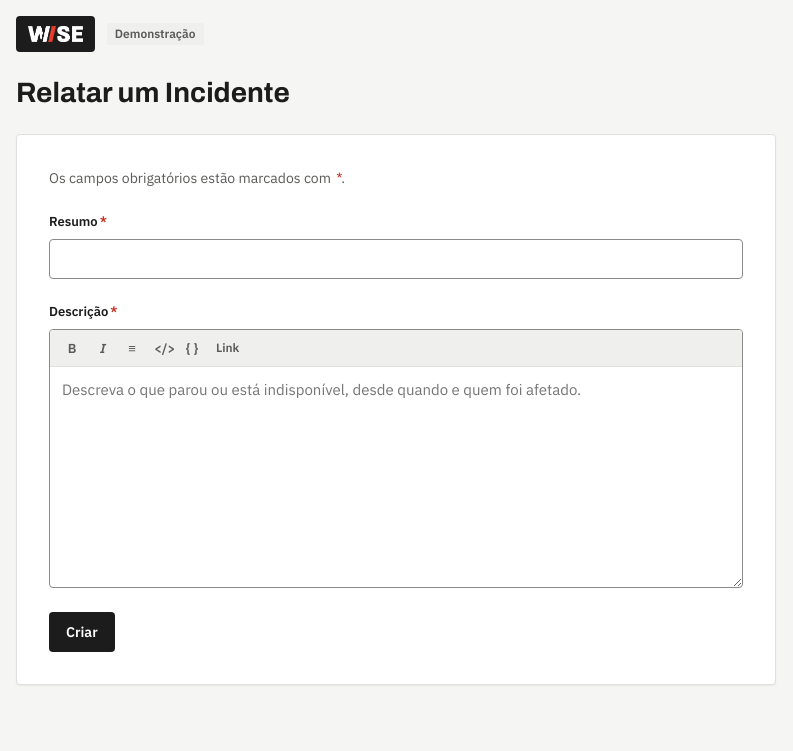
Scenario: Incidente › mostra os erros, foca o primeiro campo inválido e só envia depois de preenchido
Click the button "Criar" at (82,632), box top-left (49, 612), bottom-right (115, 652)
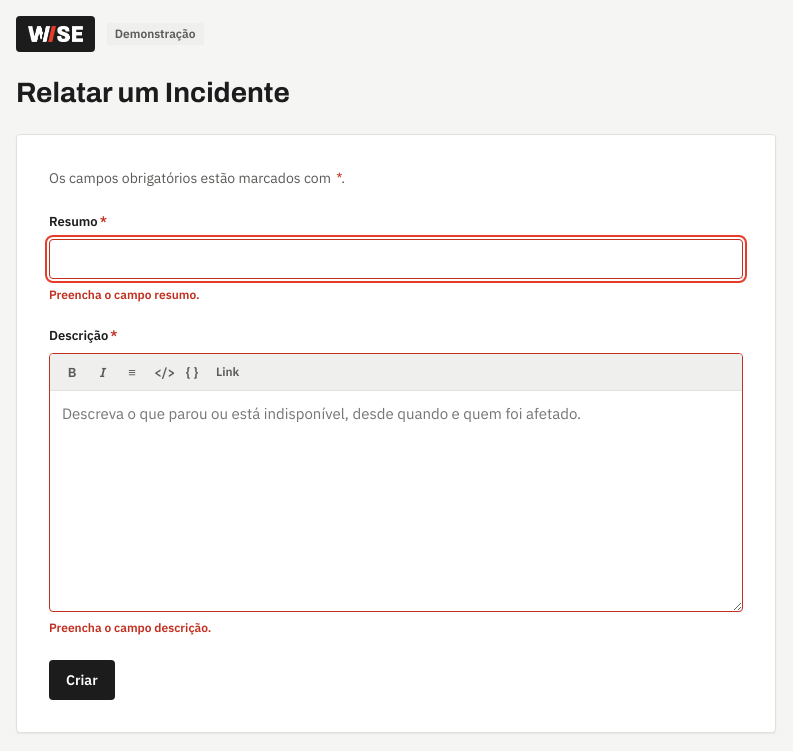
Expected: the text "Preencha o campo resumo." is shown, top-left (49, 287), bottom-right (200, 302)
Expected: the text "Preencha o campo descrição." is shown, top-left (49, 620), bottom-right (211, 635)
Type "Sistema fora do ar" into the field labelled "Resumo*" at (396,259), box top-left (49, 239), bottom-right (743, 279)
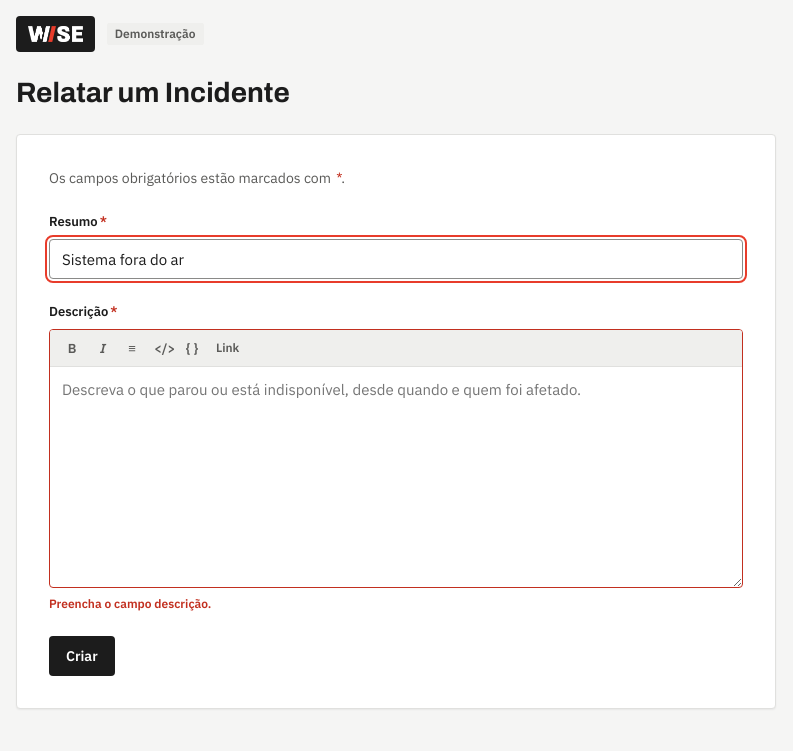
Expected: the text "Preencha o campo resumo." is gone
Type "Desde as 9h" into the text box labelled "Descrição*" at (396,477), box top-left (50, 367), bottom-right (742, 587)
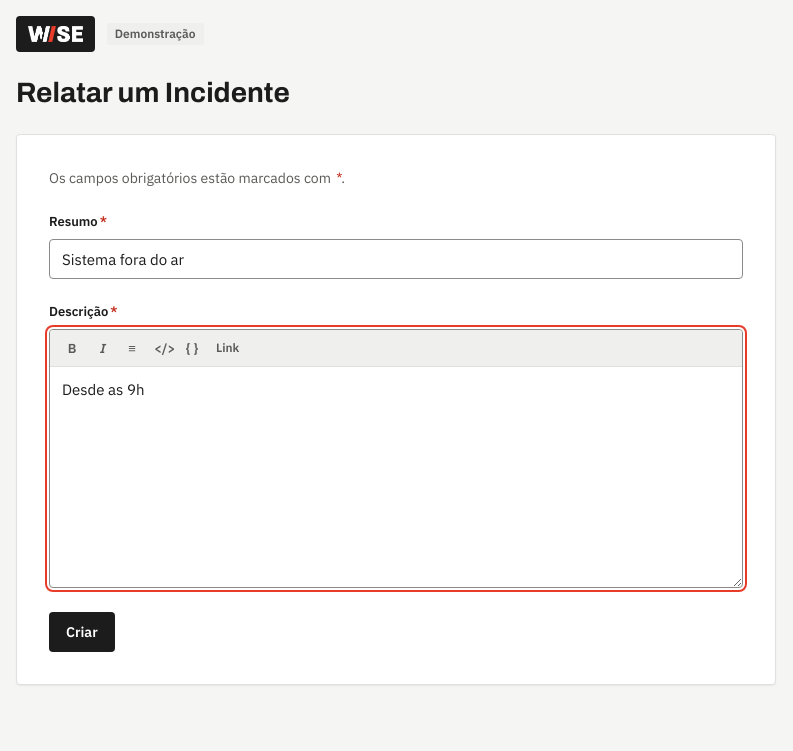
Click the button "Criar" at (82,632), box top-left (49, 612), bottom-right (115, 652)
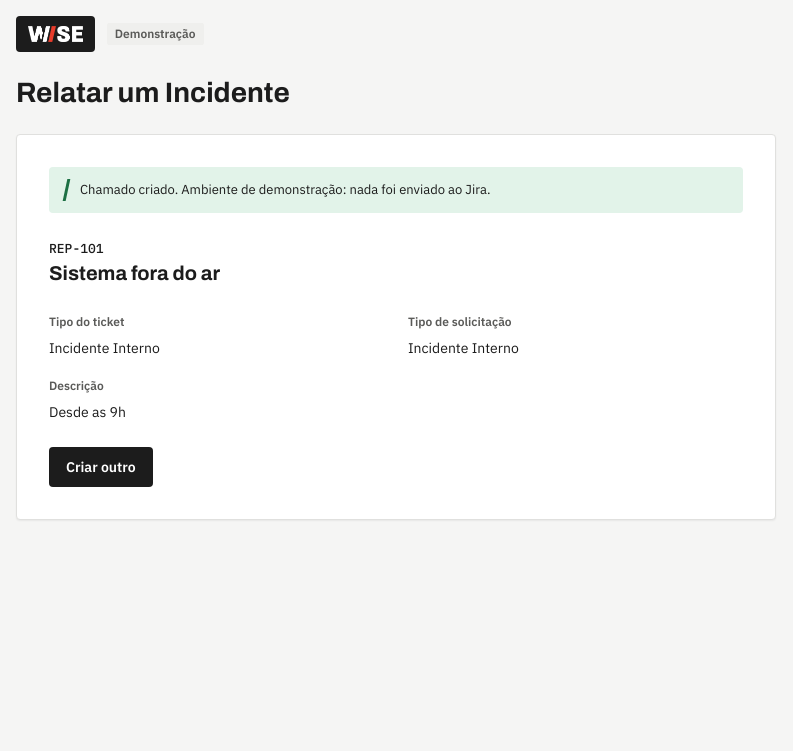
Expected: the text "REP-101" is shown, top-left (49, 240), bottom-right (104, 257)
Expected: the heading "Sistema fora do ar" is shown, top-left (49, 262), bottom-right (220, 284)
Expected: the text "nada foi enviado ao Jira" is shown, top-left (181, 181), bottom-right (491, 198)
